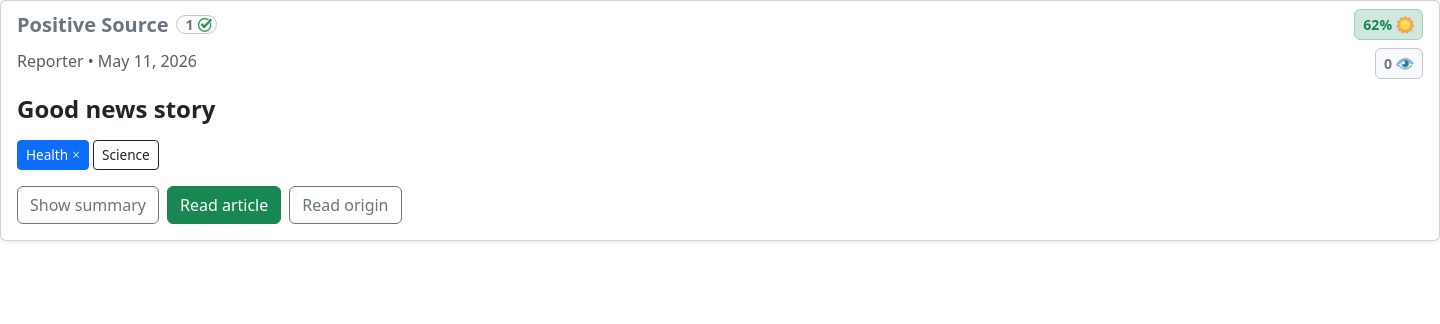
ArticleCard › formats positivity, renders topic links, and toggles summary
Expected: the element titled "Source trust score" reads "1", [186,15,194,34]
What coordinates should you click on to do the following:
click the button "Show summary"
I would click on:
 (88, 205)
Its box is [17,186,159,224].
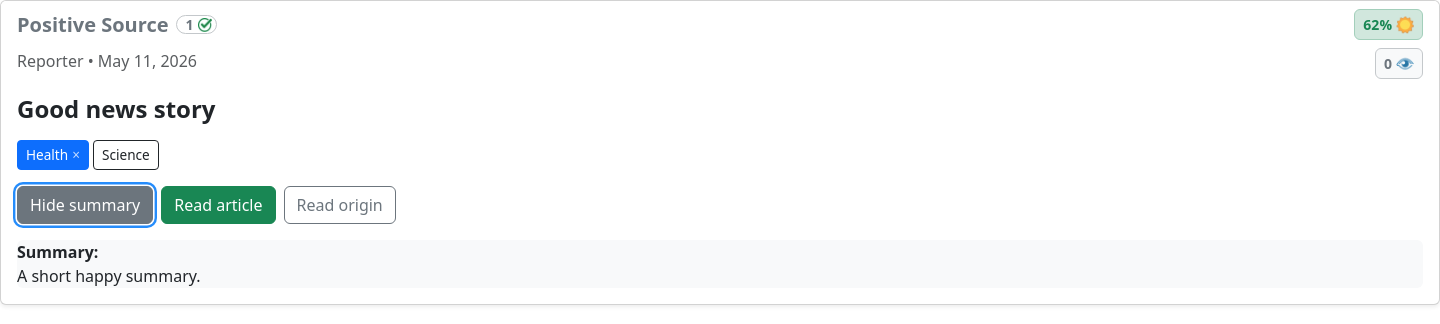
Now the button "Hide summary" is shown, box [17,186,153,224]
